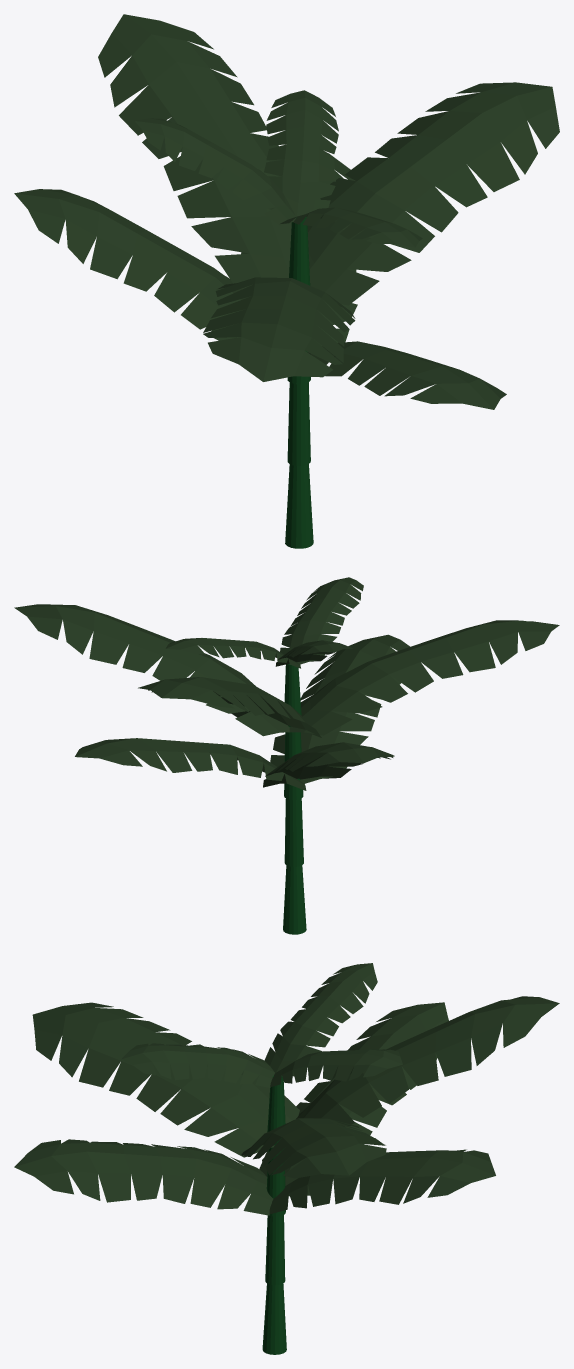
The model's file is kust3.fbx.
The picture shows the model from 3 angles, top to bottom: view 1: azimuth 30°, elevation 25°; view 2: azimuth 150°, elevation 25°; view 3: azimuth 270°, elevation 25°; orthographic projection. The views are drawn at different scales.
Parts seen in each view (by area): view 1: grass1; view 2: grass1; view 3: grass1.
Boxes of the visible parts, x1,y1,x2,y2 form: grass1: [14, 14, 559, 548]; grass1: [14, 577, 559, 934]; grass1: [14, 963, 559, 1354].
Size of the model in its own units: 415 by 328 by 472.
